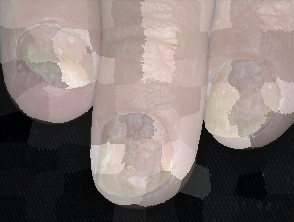Nail_psoriasis: (197, 46, 294, 154), (89, 105, 188, 209), (2, 15, 97, 98)
